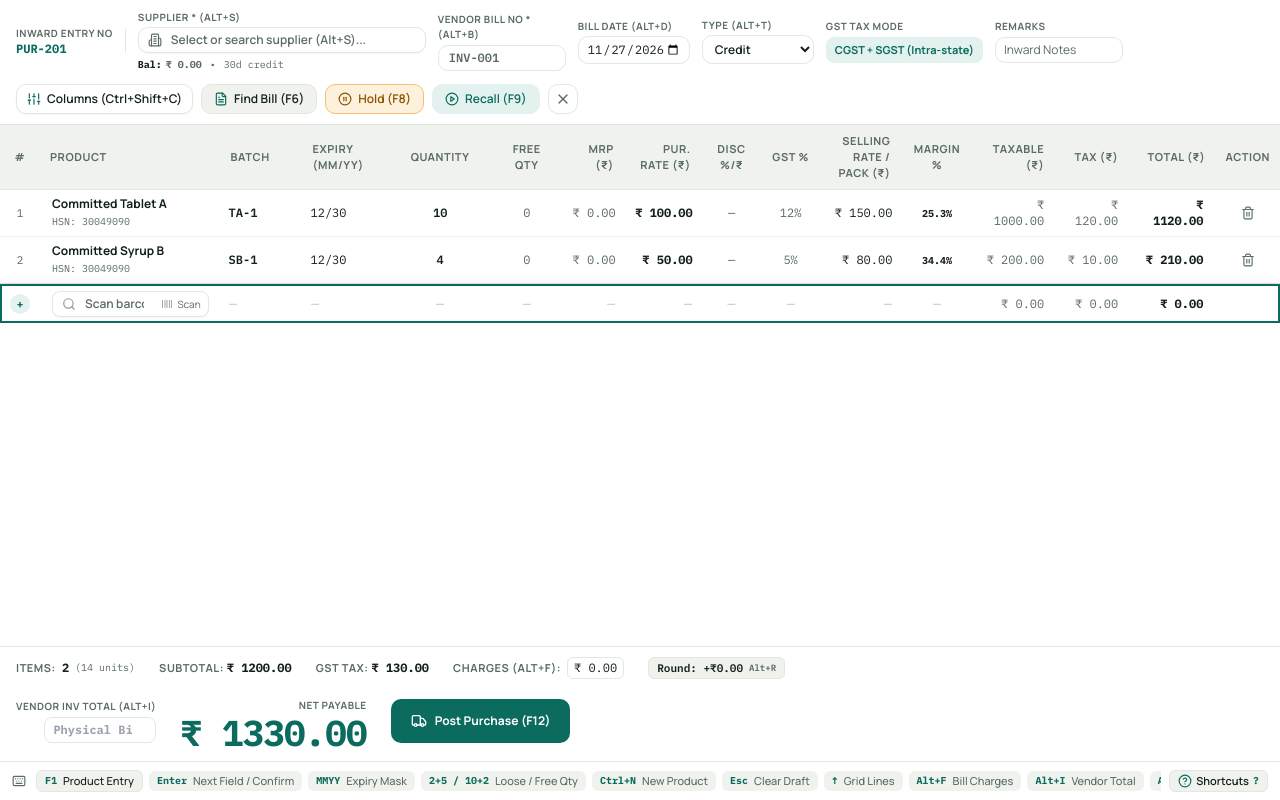
Purchase entry row is not on the bill until committed (PUR-03) › F12 is refused while the entry row holds a product, and the posted grand equals the displayed one
Later steps or results of the test are not shown.
Press b
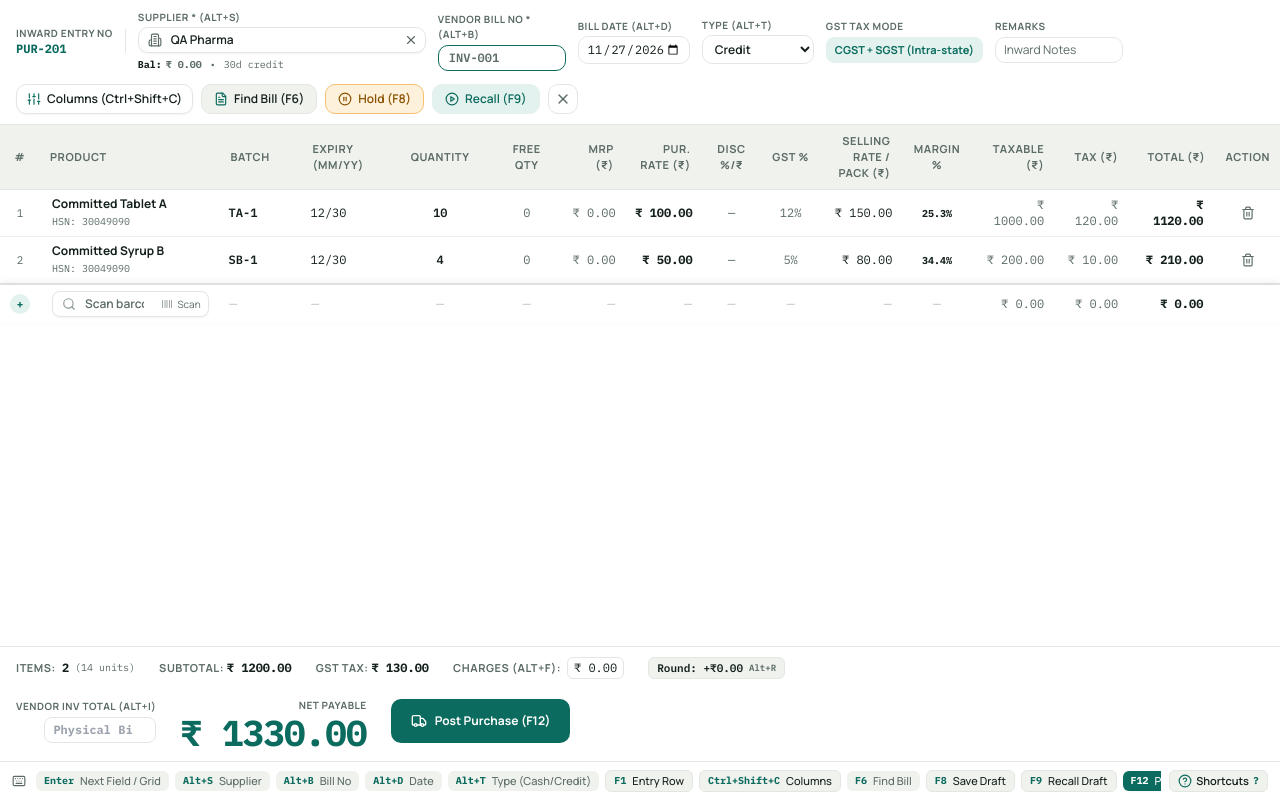
Type "QA-PB-001" into the field with placeholder "INV-001" at x=502, y=58, box x1=438 y1=44 x2=566 y2=70
Type "8909000000099" into the field with placeholder "Scan barcode or type product name [F1]..." at x=130, y=304, box x1=52 y1=291 x2=209 y2=317
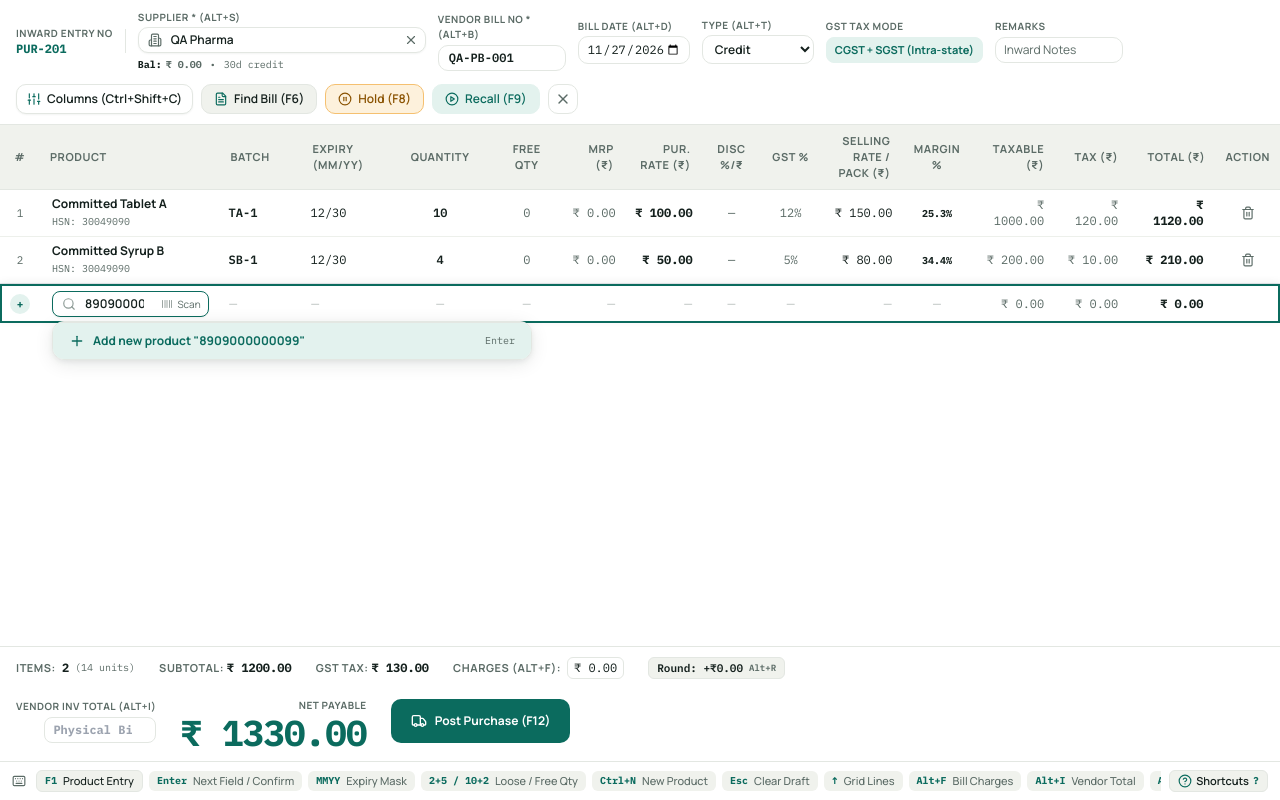
Press Enter in the field with placeholder "Scan barcode or type product name [F1]..." next to "Scan", box x1=52 y1=291 x2=209 y2=317
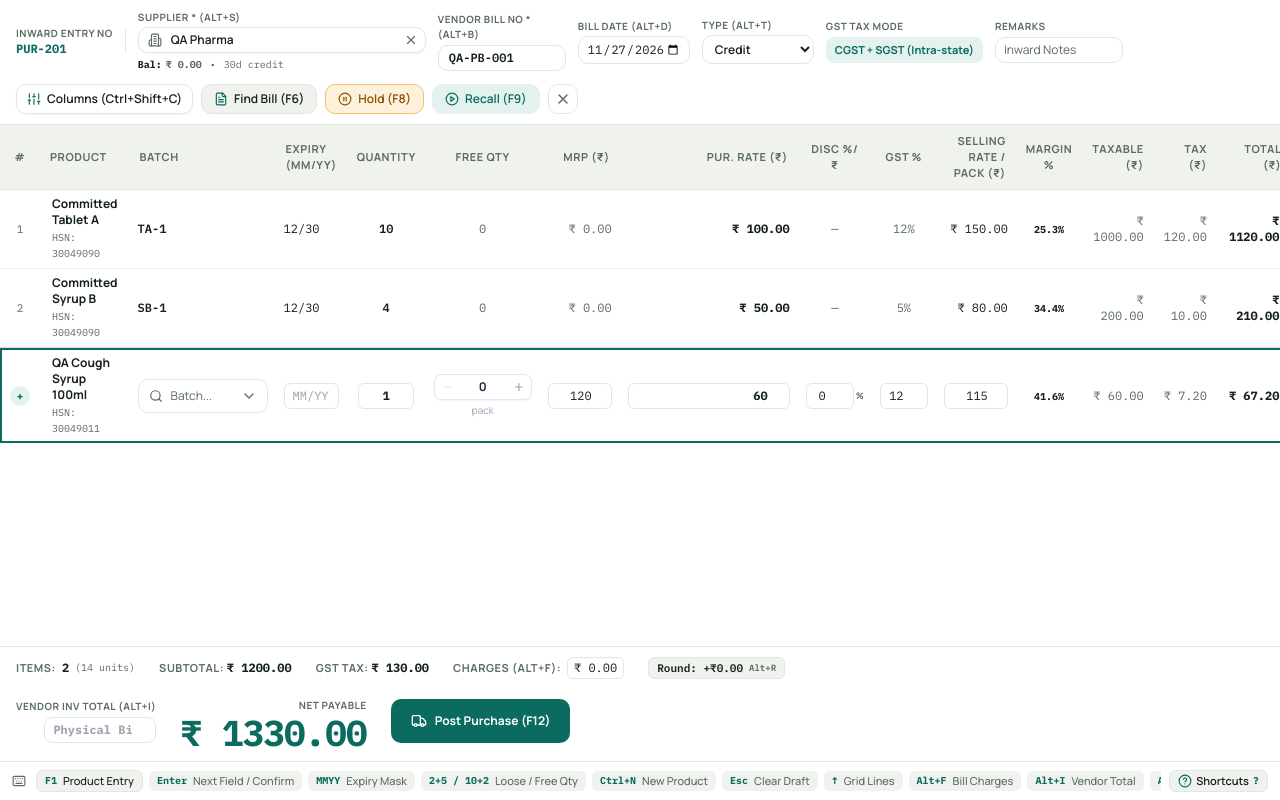
Result: the dropdown labelled "Batch..." is shown at x1=138 y1=379 x2=268 y2=413
Press F12
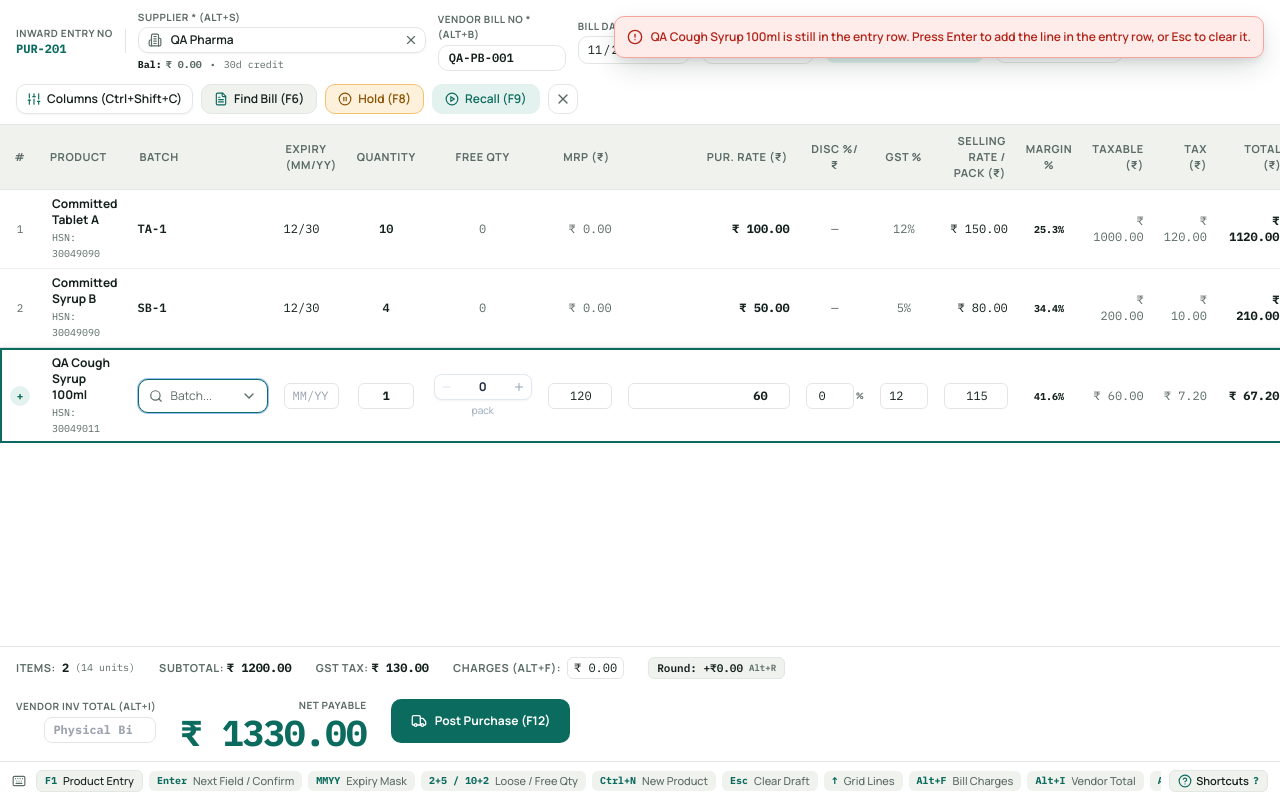
Expected: the text "Post Purchase Inward Bill" is not shown
Result: the text "Press Enter to add the line in the entry row, or Esc to clear it" is shown at x1=651 y1=28 x2=1251 y2=45
Press Escape
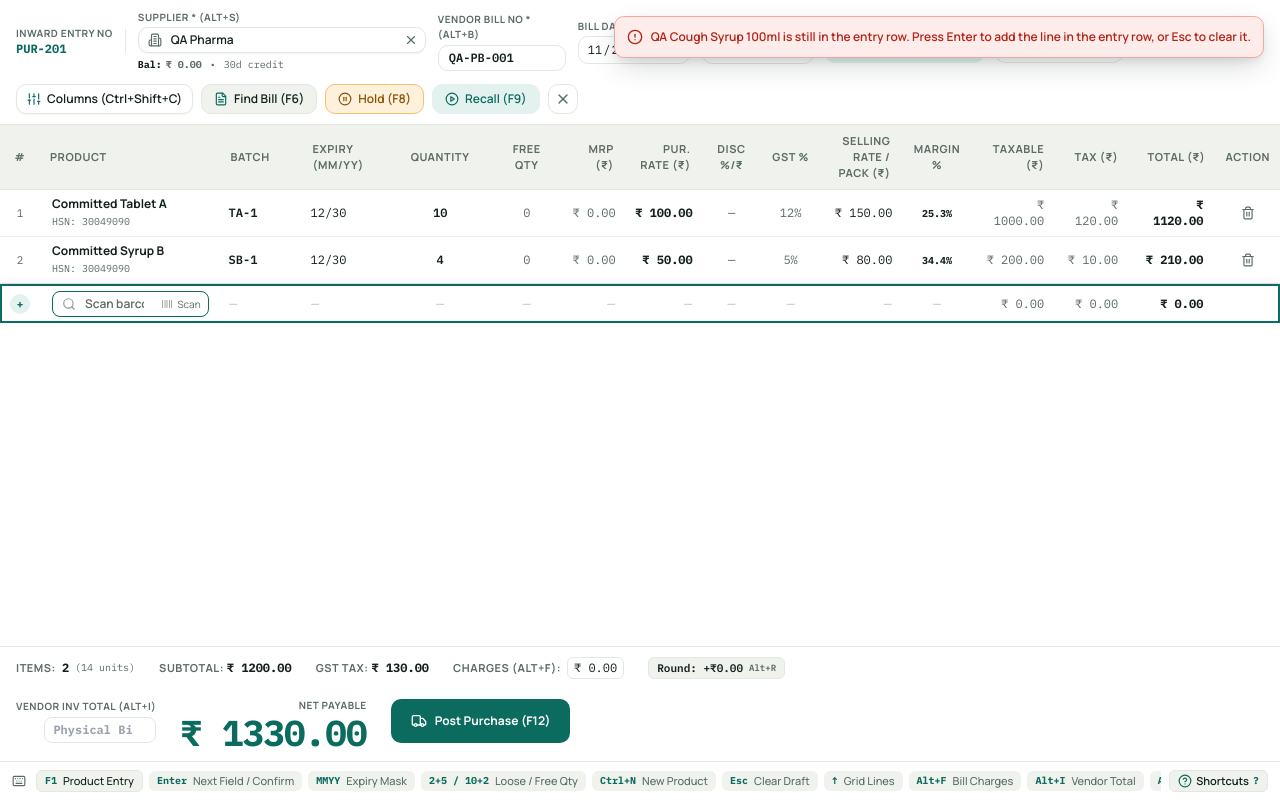
Result: the dropdown is gone
Press F12
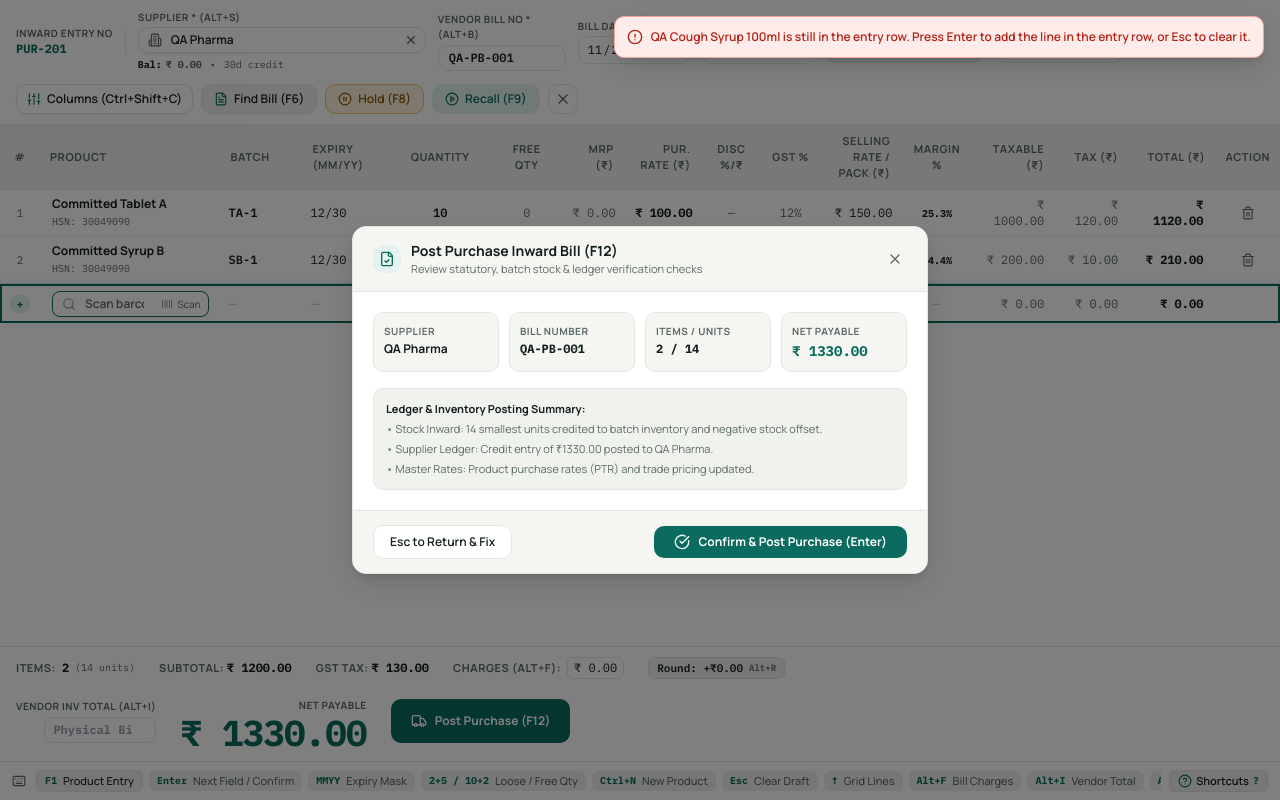
Result: the heading "Post Purchase Inward Bill (F12)" is shown at x1=411 y1=241 x2=618 y2=260
